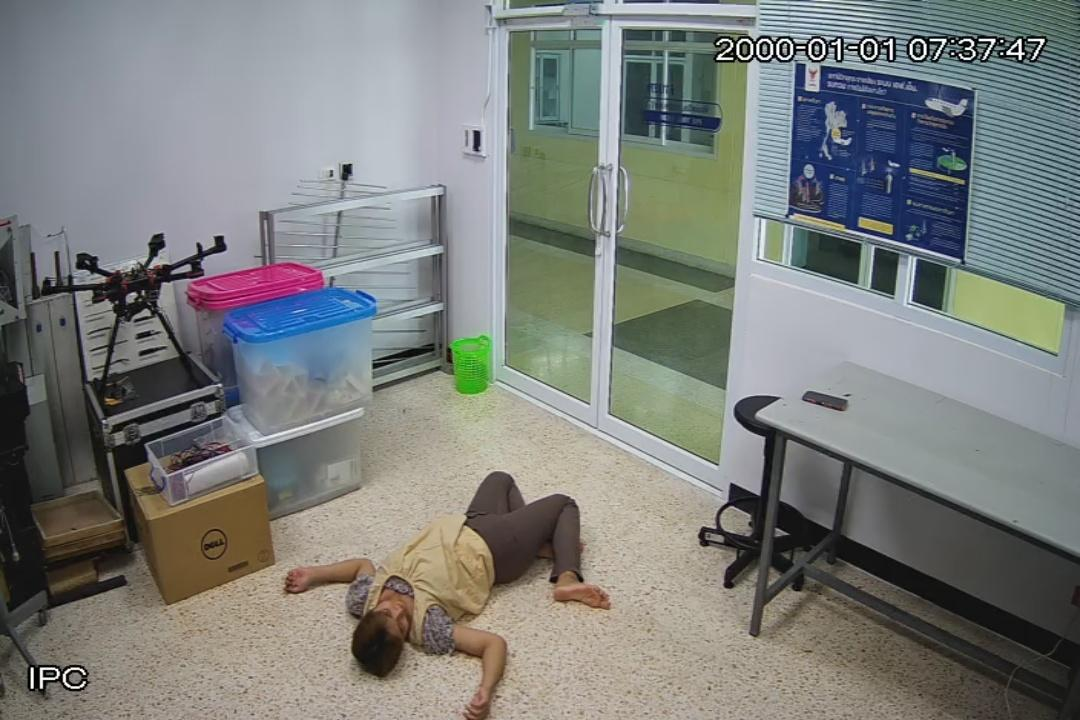fall: (273, 470, 615, 720)
